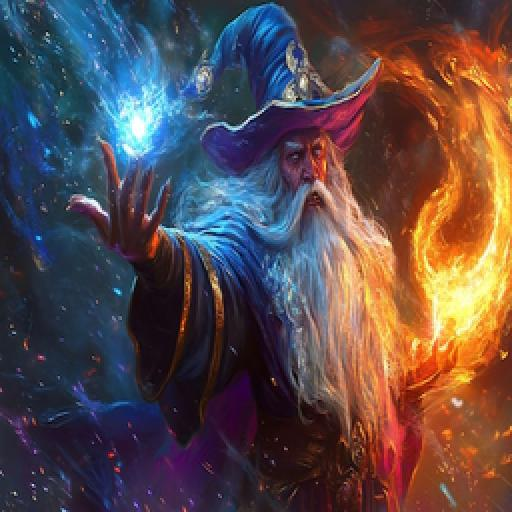wizards: (68, 4, 461, 506)
